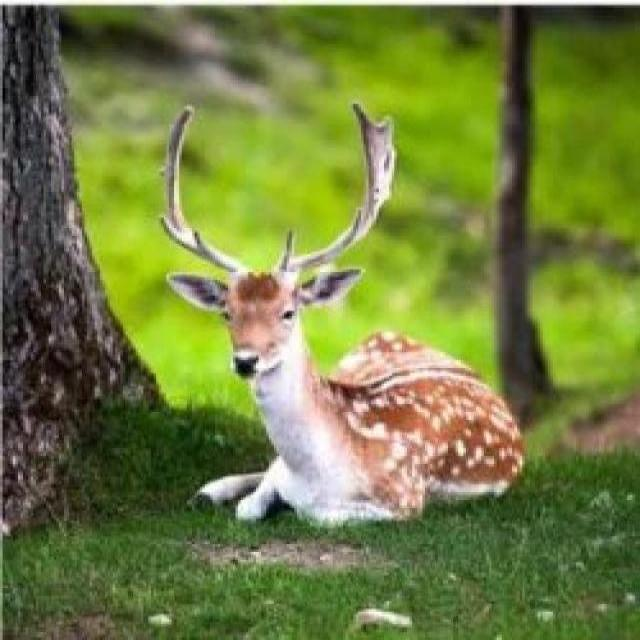deer: (96, 83, 528, 536)
